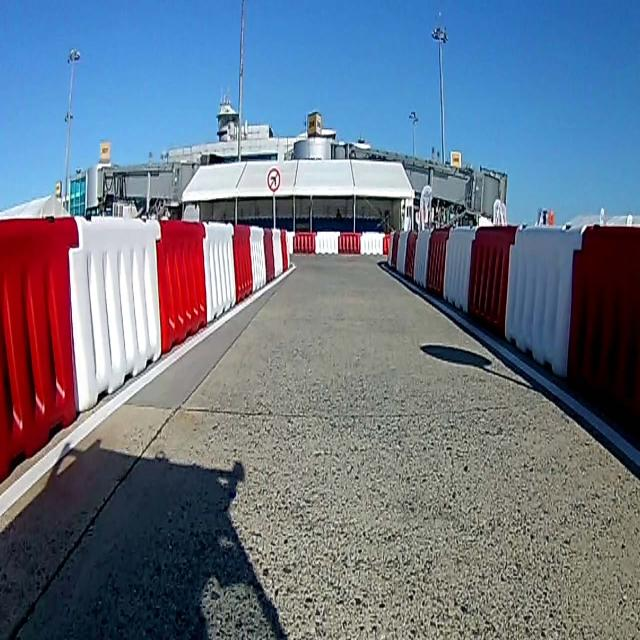soladonulmez: (268, 167, 280, 190)
